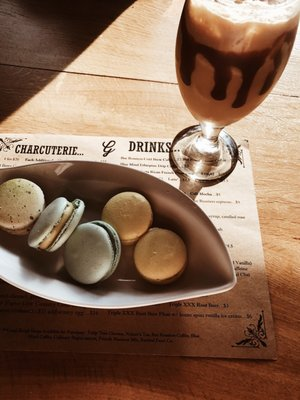taco: (101, 191, 153, 245)
